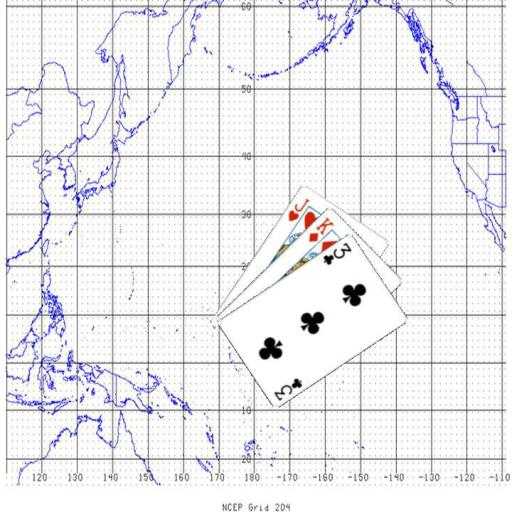3C: (320, 239, 353, 266), (271, 375, 304, 402)
JH: (284, 195, 311, 222)
KD: (305, 214, 336, 244)
